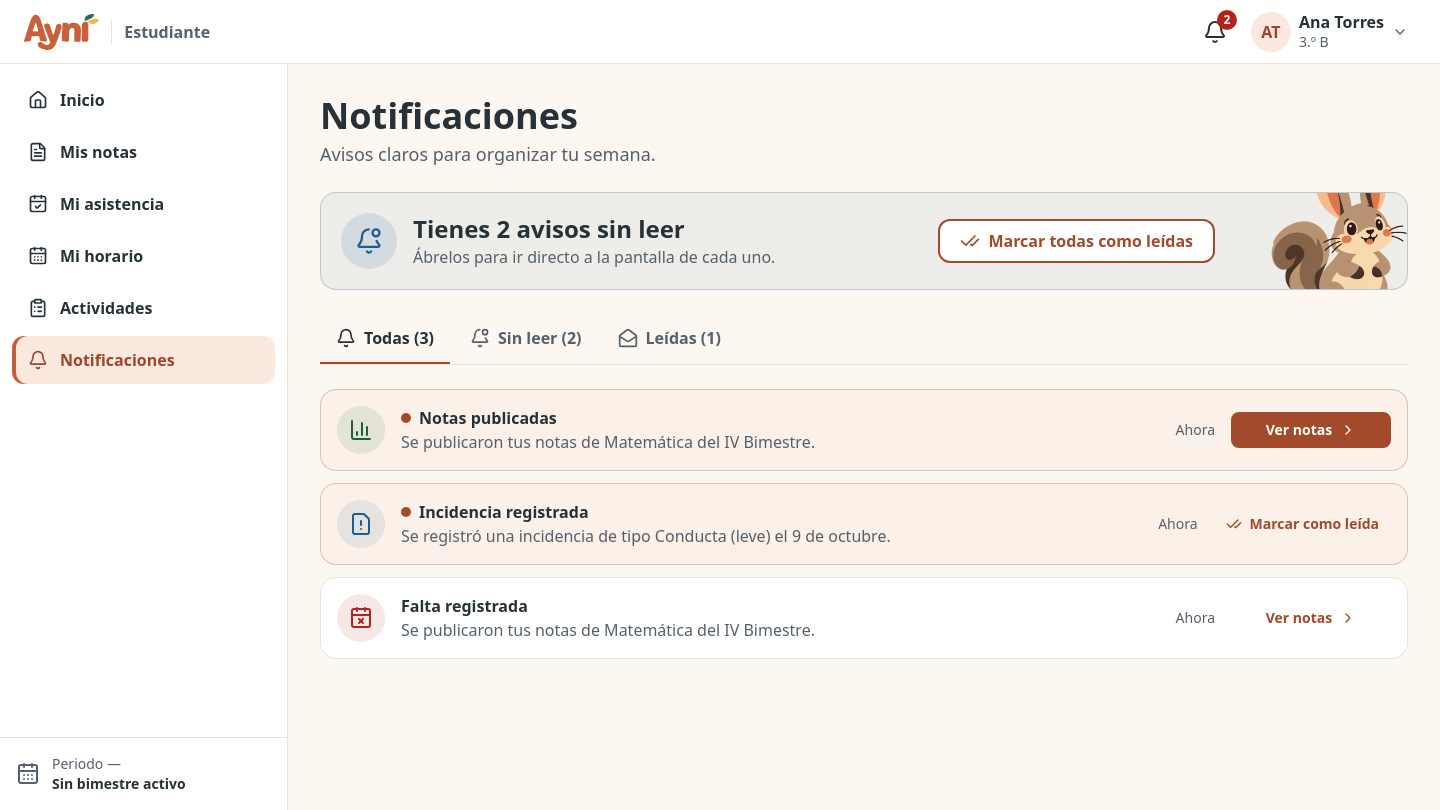
Test case: Pantalla de notificaciones (los 3 roles) › filtra por pestañas, lleva a cada pantalla y marca todas como leídas
Check: the heading "Tienes 2 avisos sin leer" is shown, box x1=413 y1=212 x2=685 y2=245
Note: Sin enlace: se marca con su propio botón
Step 1. Click the button with aria-label "Marcar como leída: Incidencia registrada" → (1302, 524), box x1=1214 y1=506 x2=1391 y2=542
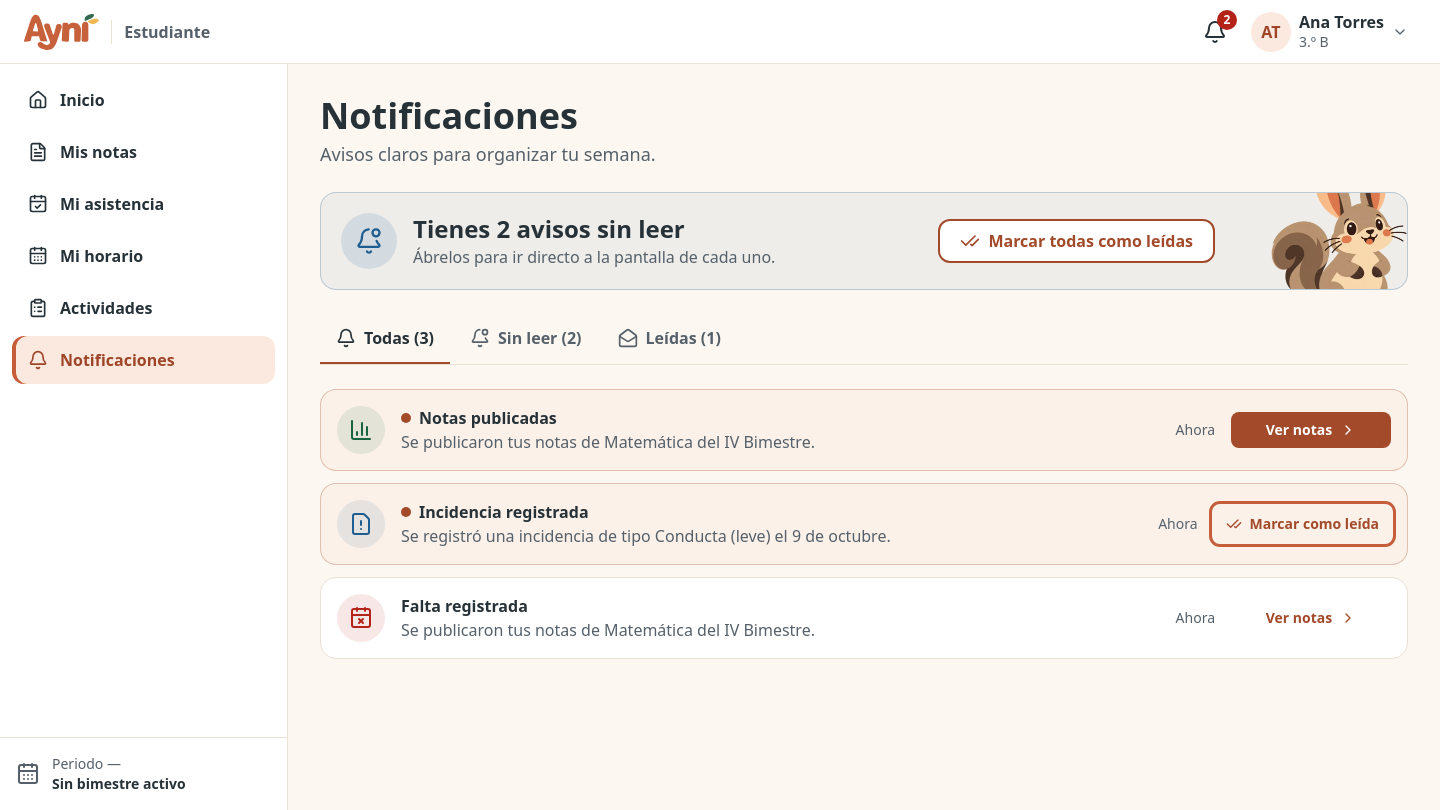
Step 2. Click the tab "Sin leer (2)" → (526, 340), box x1=454 y1=314 x2=598 y2=365
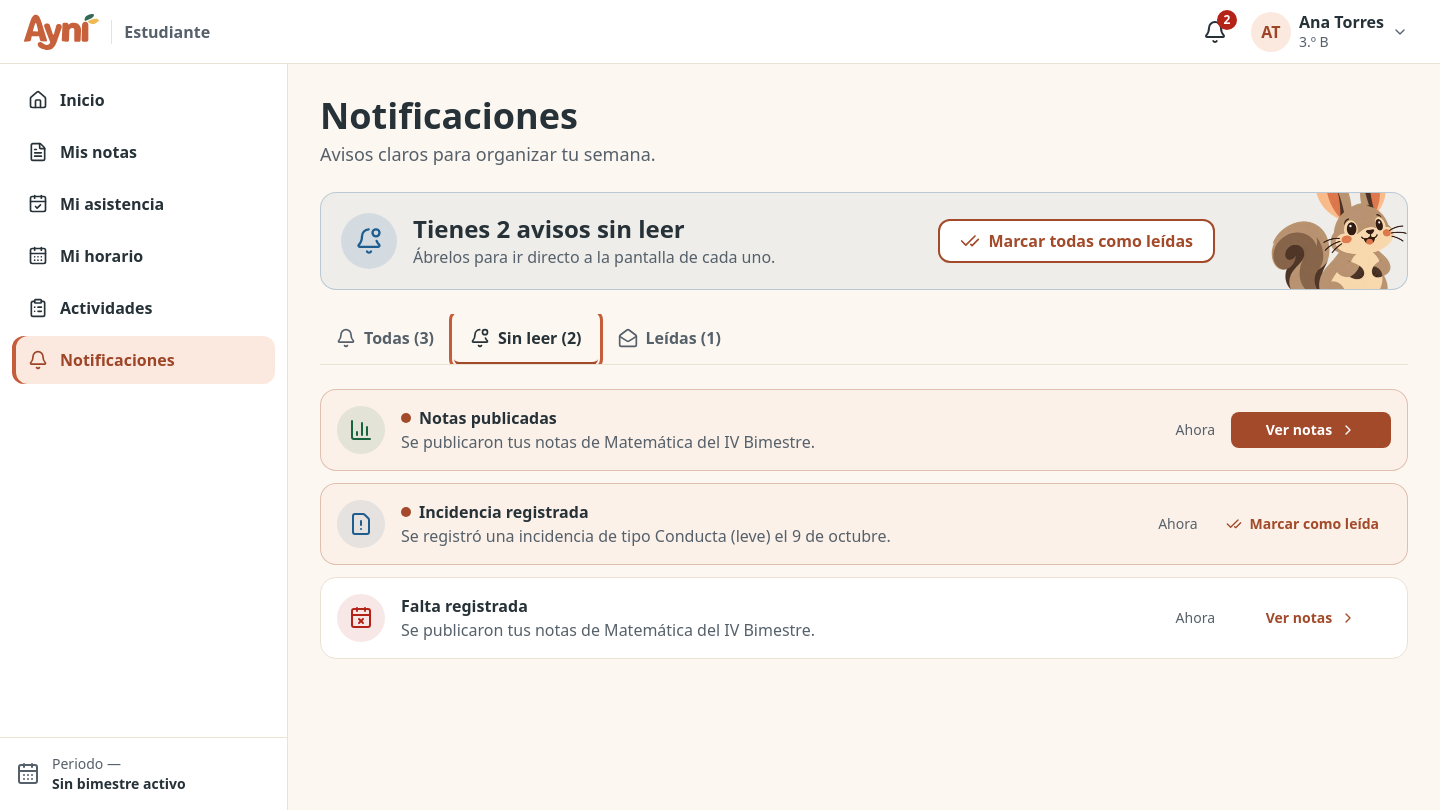
Step 3. Click the button "Marcar todas como leídas" → (1077, 241), box x1=938 y1=219 x2=1215 y2=263
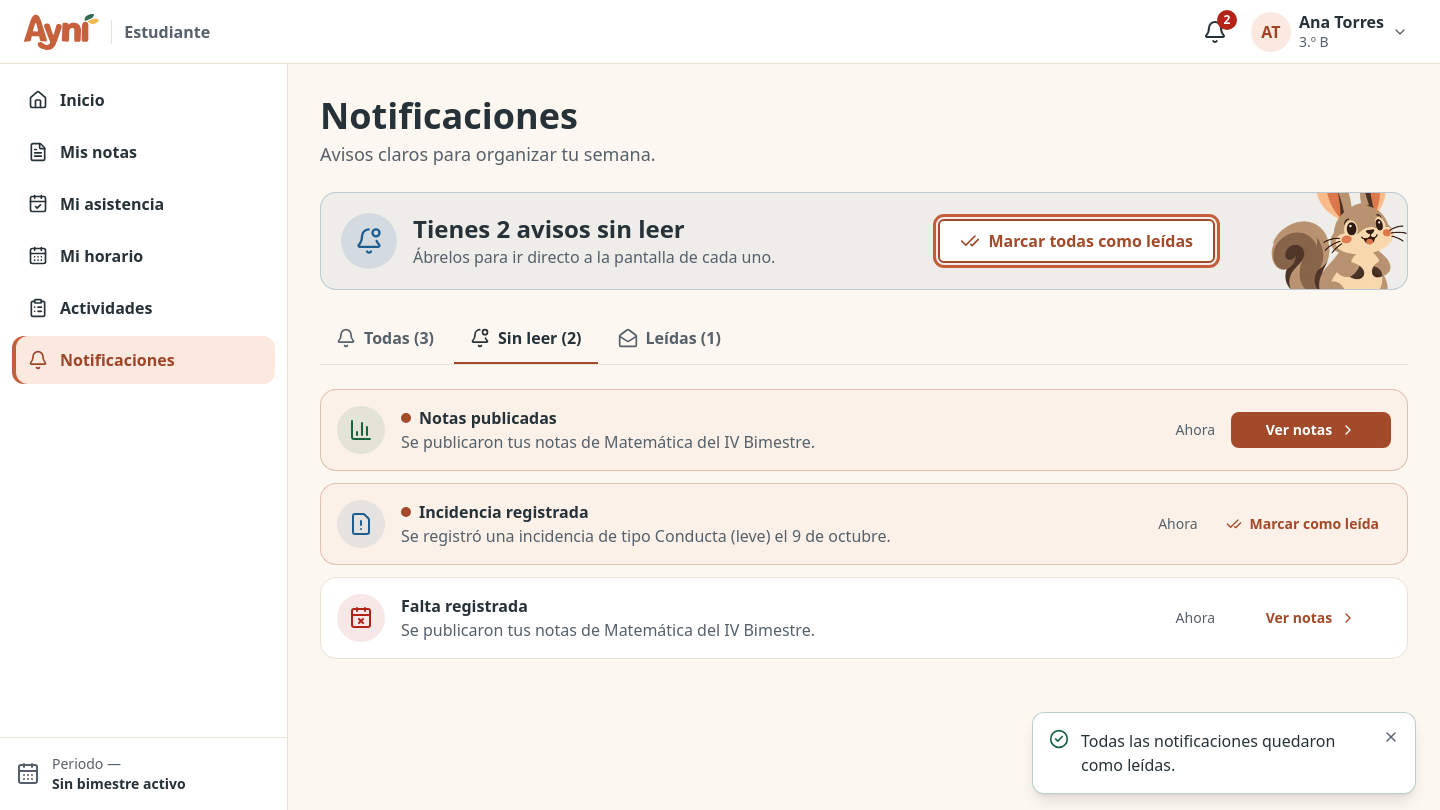
Check: the text "Todas las notificaciones quedaron como leídas." is shown, box x1=1081 y1=729 x2=1371 y2=777
